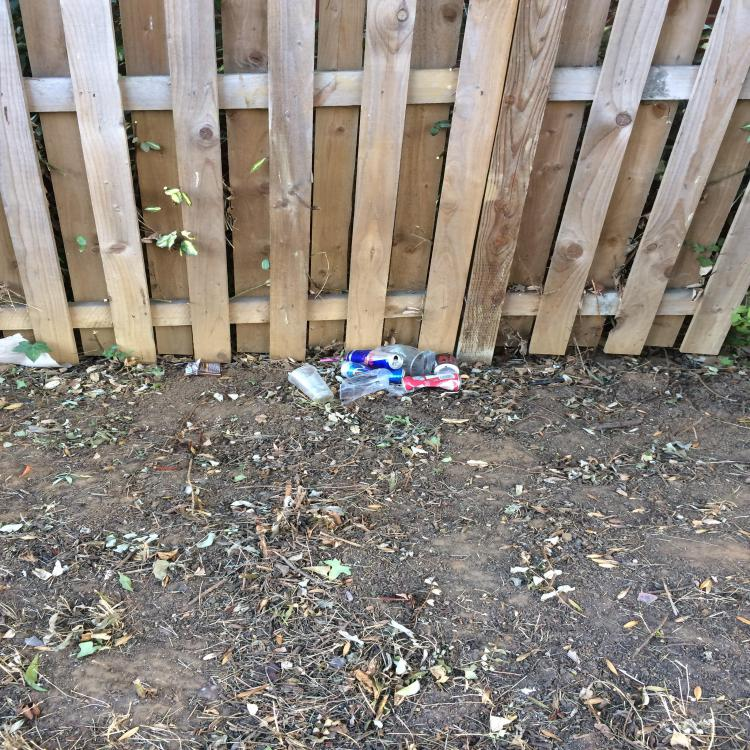Aluminium foil: (187, 362, 198, 371)
Disposable plastic cup: (288, 365, 334, 403), (374, 344, 424, 376)
Drink can: (341, 361, 405, 385), (397, 374, 461, 393), (346, 350, 403, 370), (433, 353, 459, 375)
Other carton: (185, 358, 222, 377)
Other plastic wrapper: (340, 368, 406, 405), (415, 350, 435, 376)
Pop tab: (397, 385, 404, 388)
Unlabeled litter: (1, 333, 72, 368), (637, 592, 658, 604), (321, 357, 346, 362)
